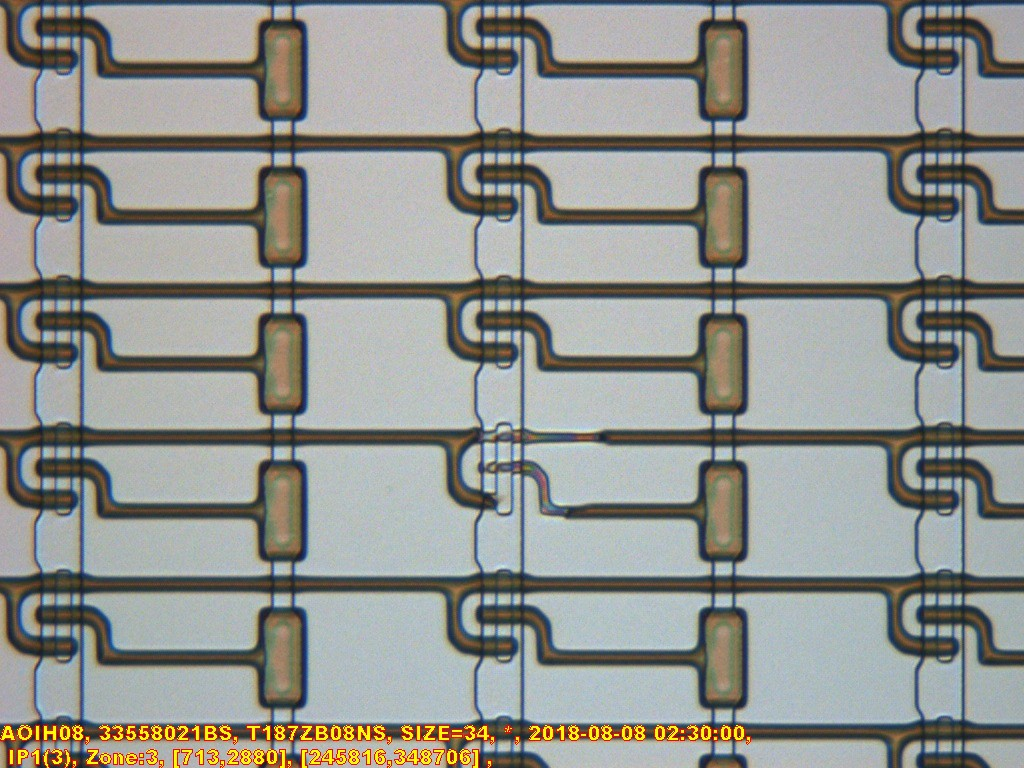good: (433, 114, 572, 232), (873, 114, 1012, 232), (433, 261, 572, 379), (873, 261, 1012, 379), (873, 408, 1012, 526), (432, 554, 571, 672), (873, 555, 1012, 673)
ng: (433, 408, 572, 526)
